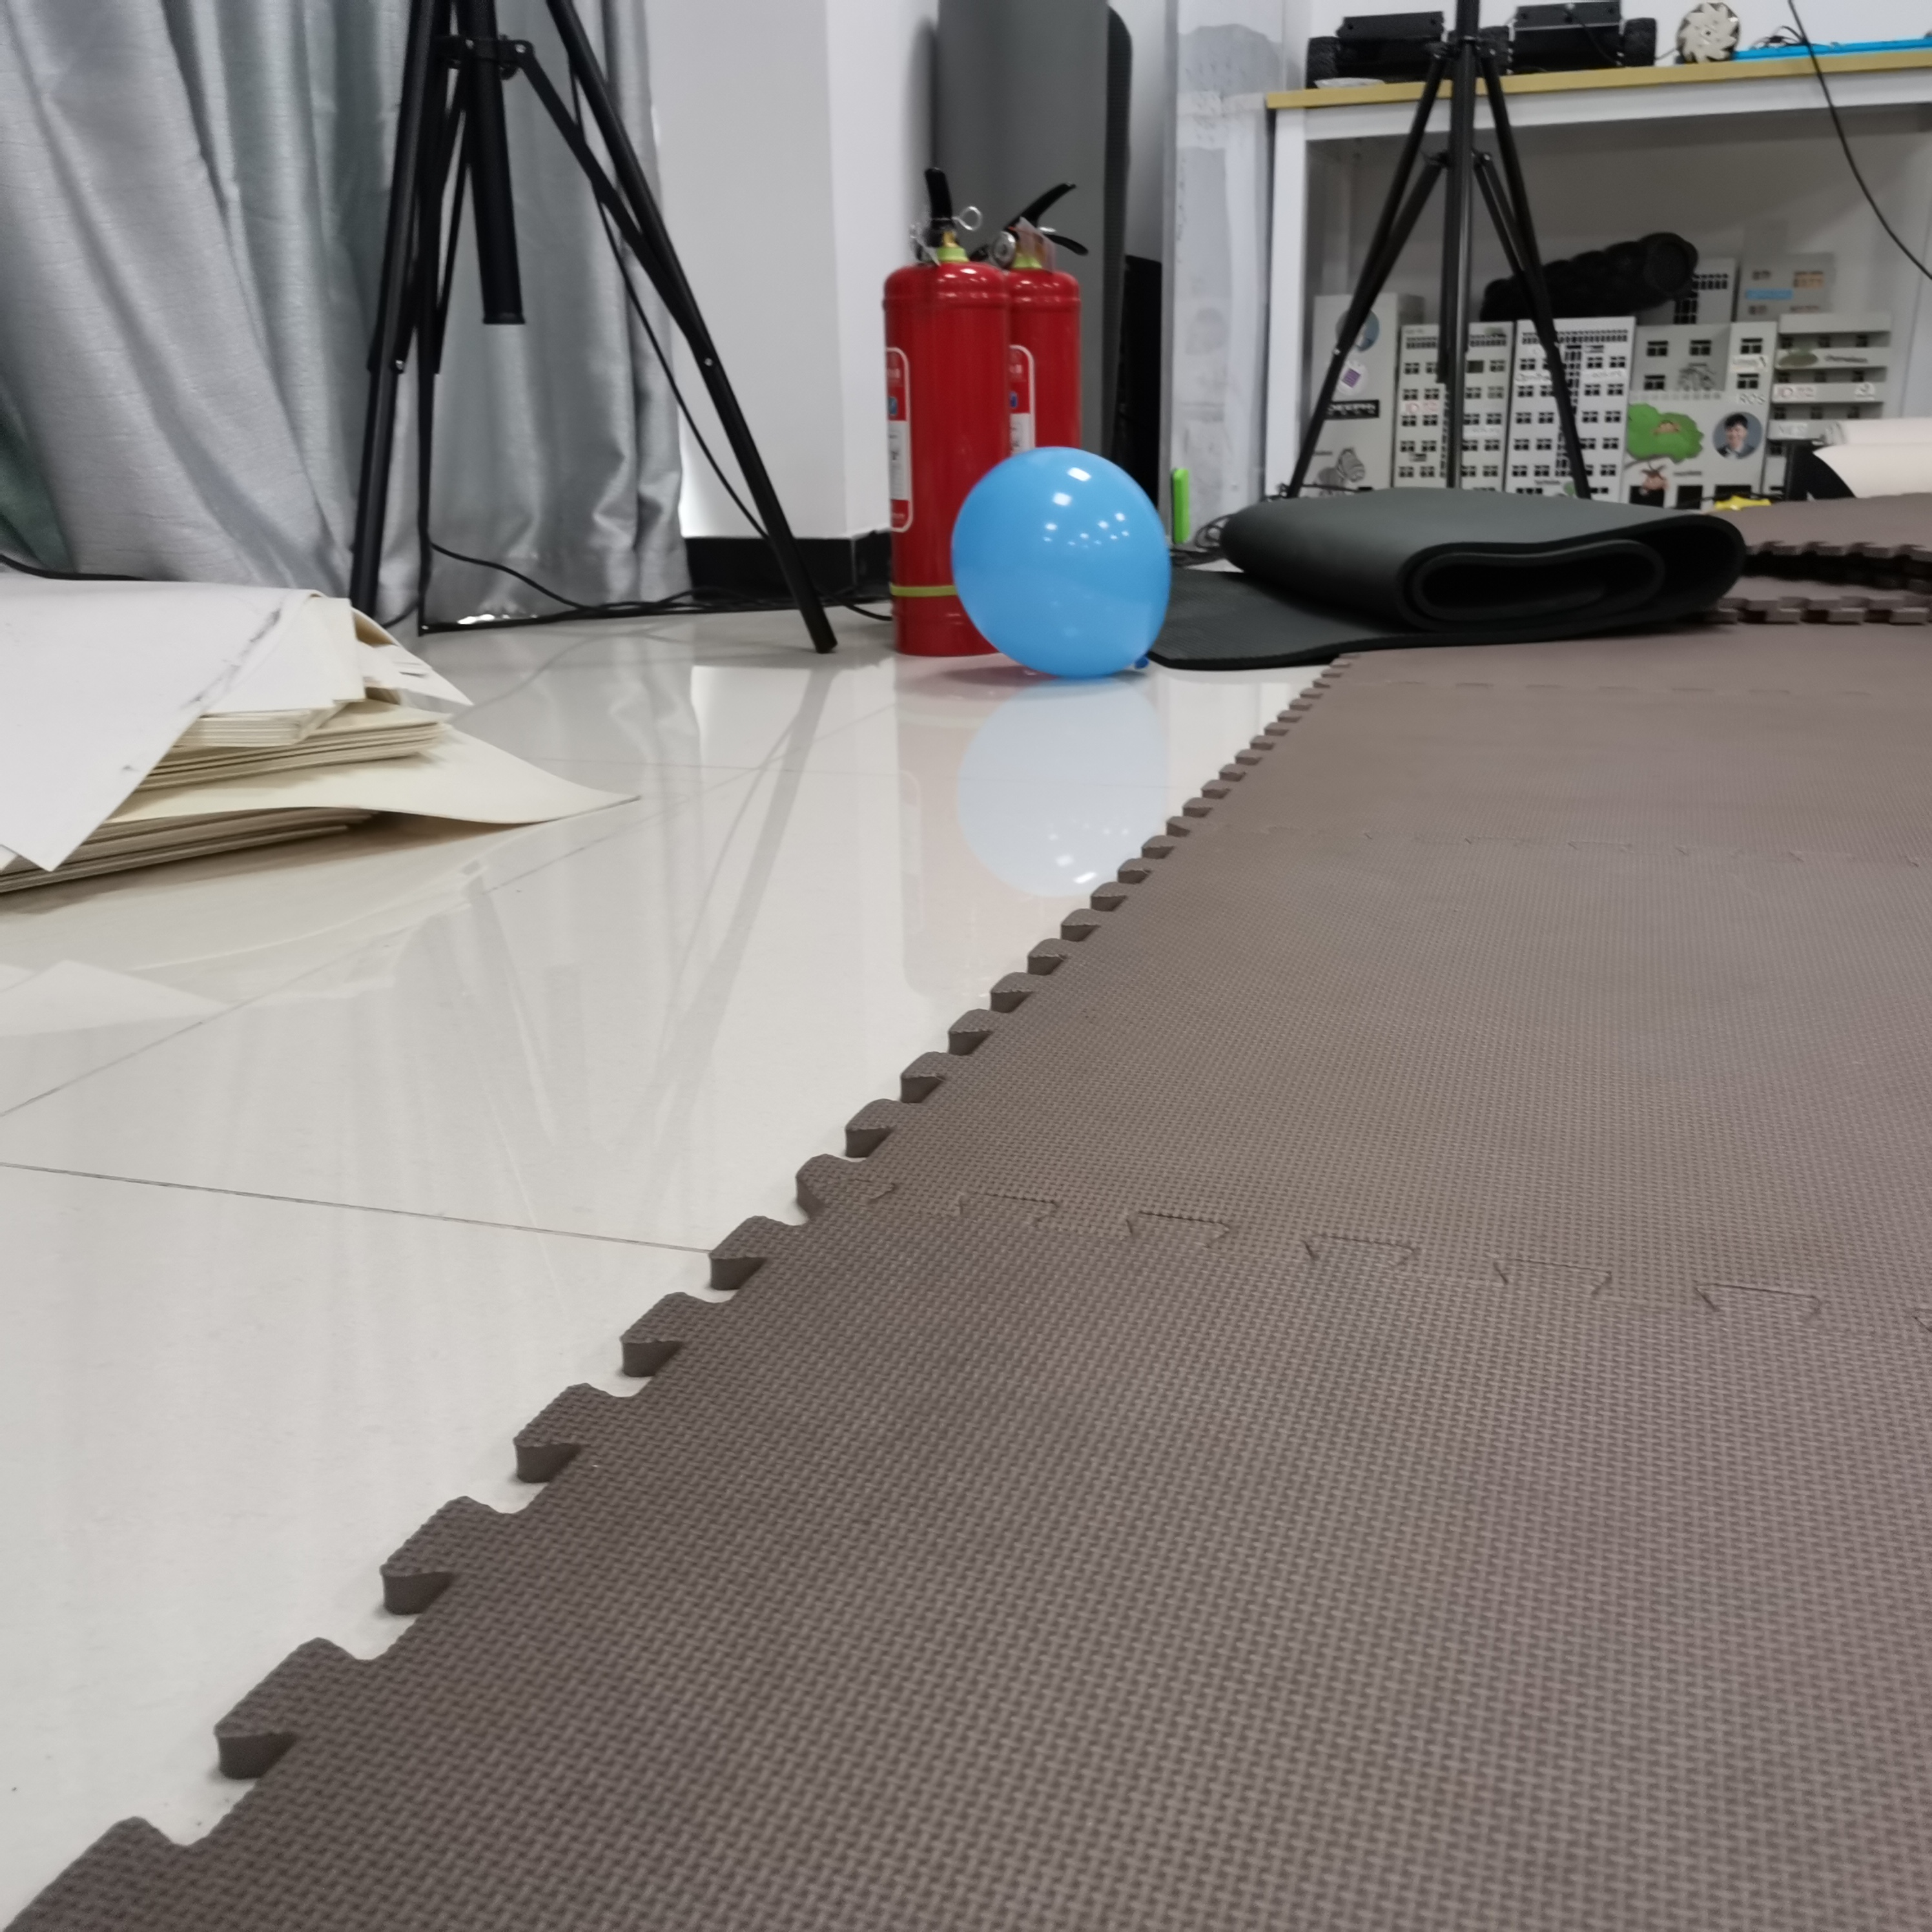balloon: (950, 446, 1169, 679)
